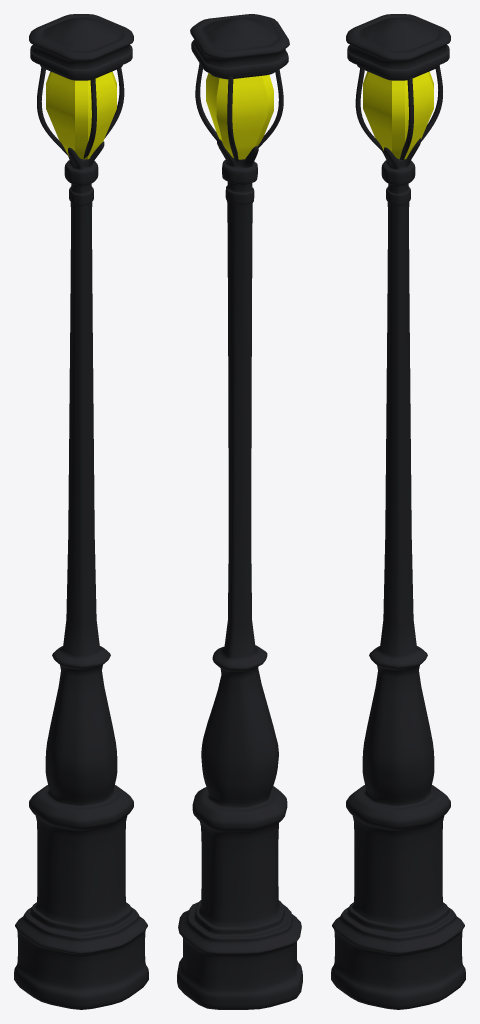
Rendered from Farol_H.fbx.
3 views of the same model, side by side, from view 1: azimuth 90°, elevation 25°; view 2: azimuth 150°, elevation 25°; view 3: azimuth 270°, elevation 25° (orthographic).
Parts seen in each view (by area): view 1: Farol1, Luz; view 2: Farol1, Luz; view 3: Farol1, Luz.
Part boxes in pixels (x1=…): Farol1: x1=14, y1=14, x2=148, y2=1009; Luz: x1=46, y1=71, x2=116, y2=159; Farol1: x1=177, y1=14, x2=302, y2=1009; Luz: x1=206, y1=73, x2=273, y2=159; Farol1: x1=331, y1=14, x2=465, y2=1009; Luz: x1=363, y1=71, x2=433, y2=159.
Size of the model in its own units: 3.77 by 29.93 by 3.8.
